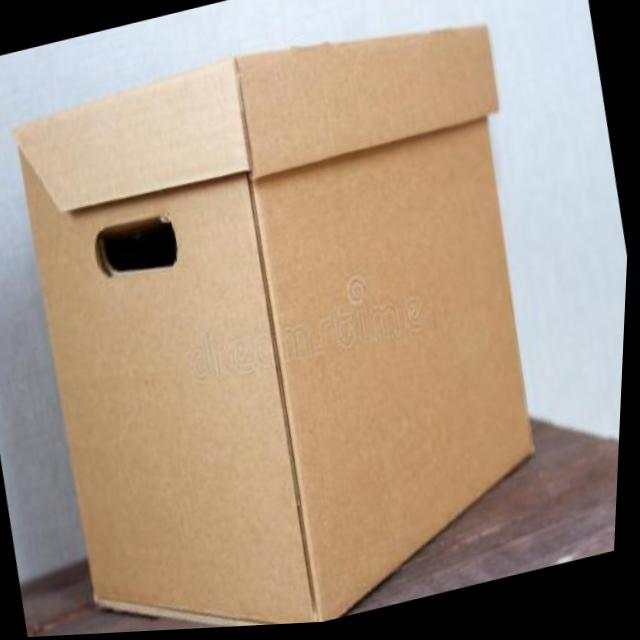box: (0, 0, 612, 640)
